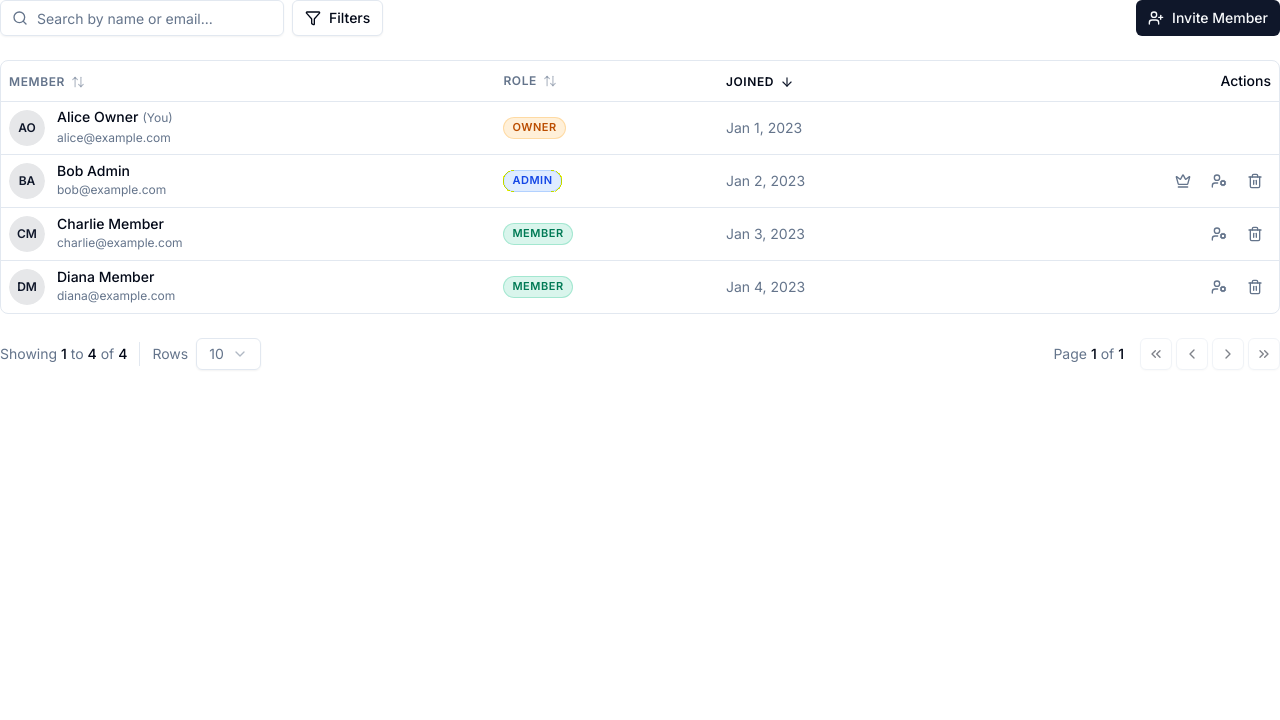
Scenario: Members Management (integration) › should open the update role dialog and show role options
# Click update role for a member
Click the button named "update role for" at {"x": 1219, "y": 180}, box x1=1203 y1=164 x2=1235 y2=196
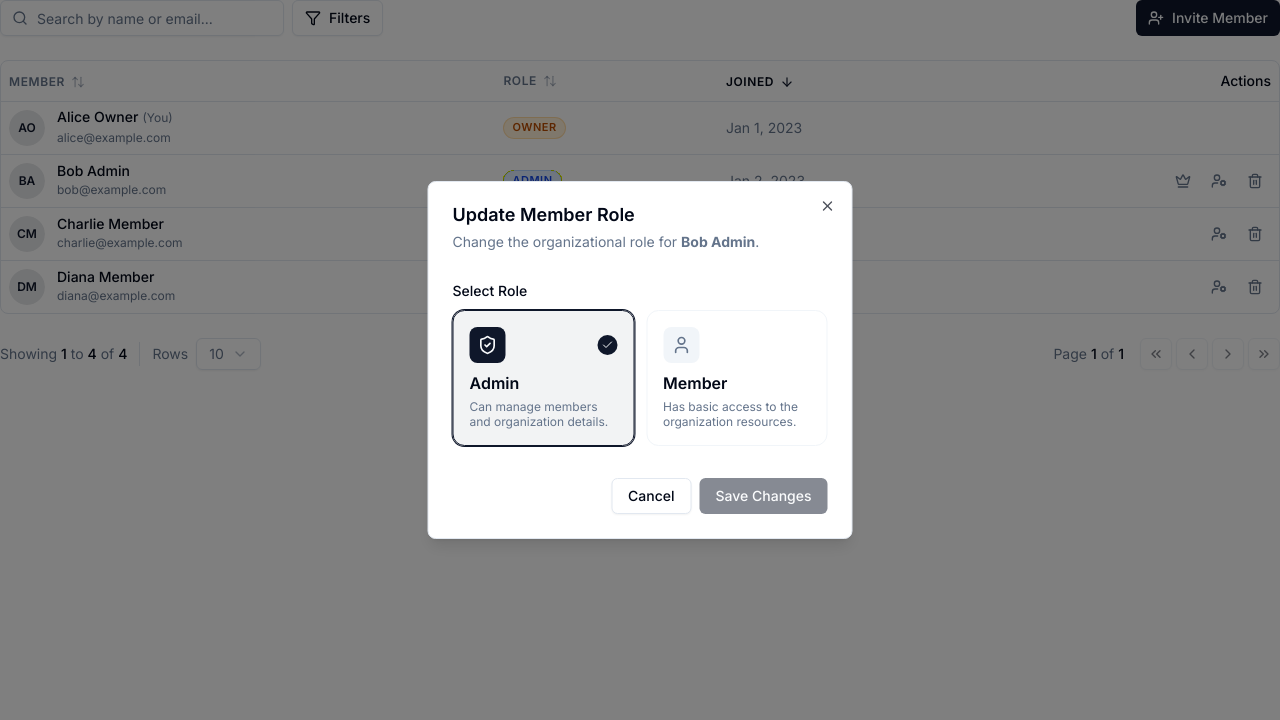
Result: the heading "Update Member Role" is shown at x1=452 y1=204 x2=635 y2=225
